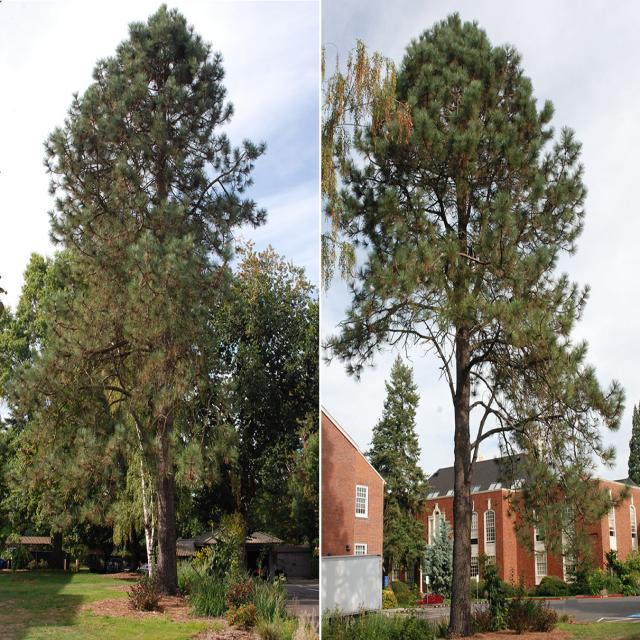Pinus jeffreyi: (356, 14, 626, 627), (46, 8, 245, 596)
